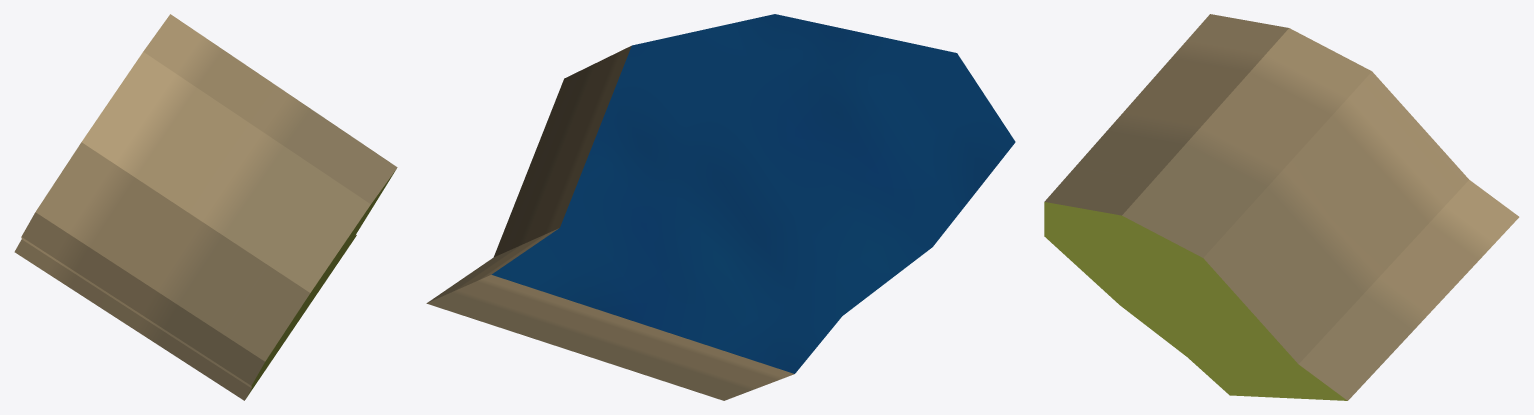
Rendered from 062f_Korea.glb.
3 renders of one model, left to right at view 1: azimuth 30°, elevation 25°; view 2: azimuth 150°, elevation 25°; view 3: azimuth 270°, elevation 25°, orthographic. The views are drawn at different scales.
Visible parts, largest first — view 1: part_0; view 2: part_0; view 3: part_0.
Boxes of the visible parts, bbox=[...] form: part_0: bbox=[14, 14, 397, 400]; part_0: bbox=[426, 14, 1015, 400]; part_0: bbox=[1044, 14, 1519, 400].
Size of the model in its own units: 0.3307 by 0.2769 by 0.3571.
1 material, 1 textured.
